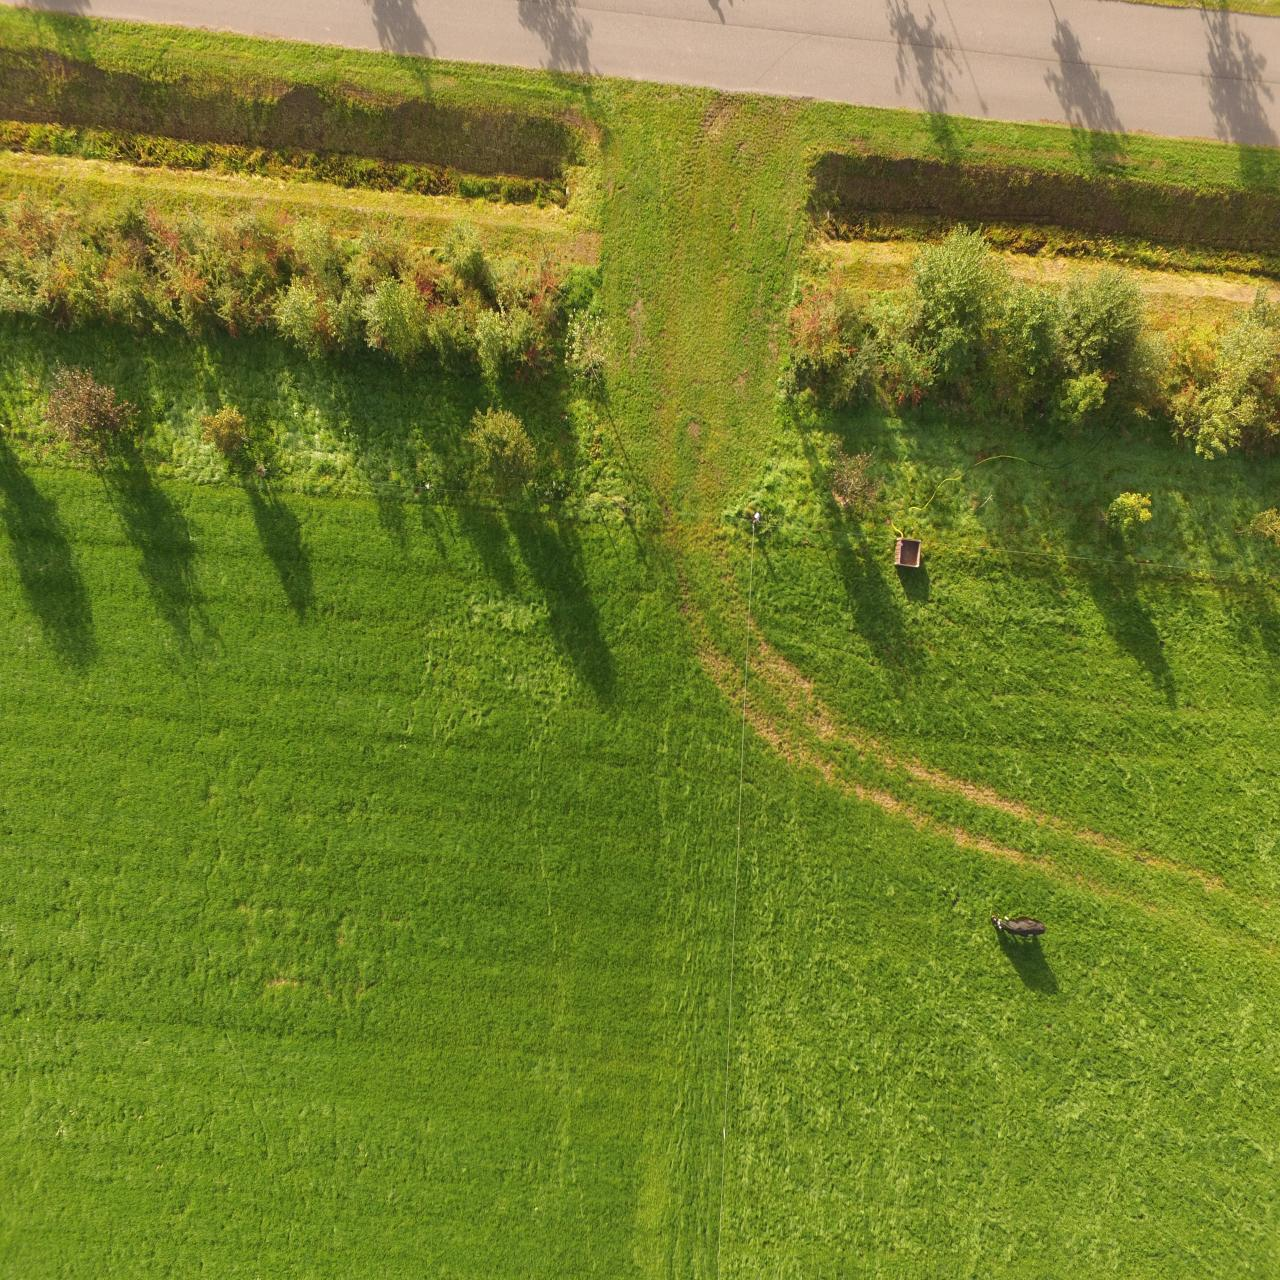cow: (988, 911, 1048, 941)
